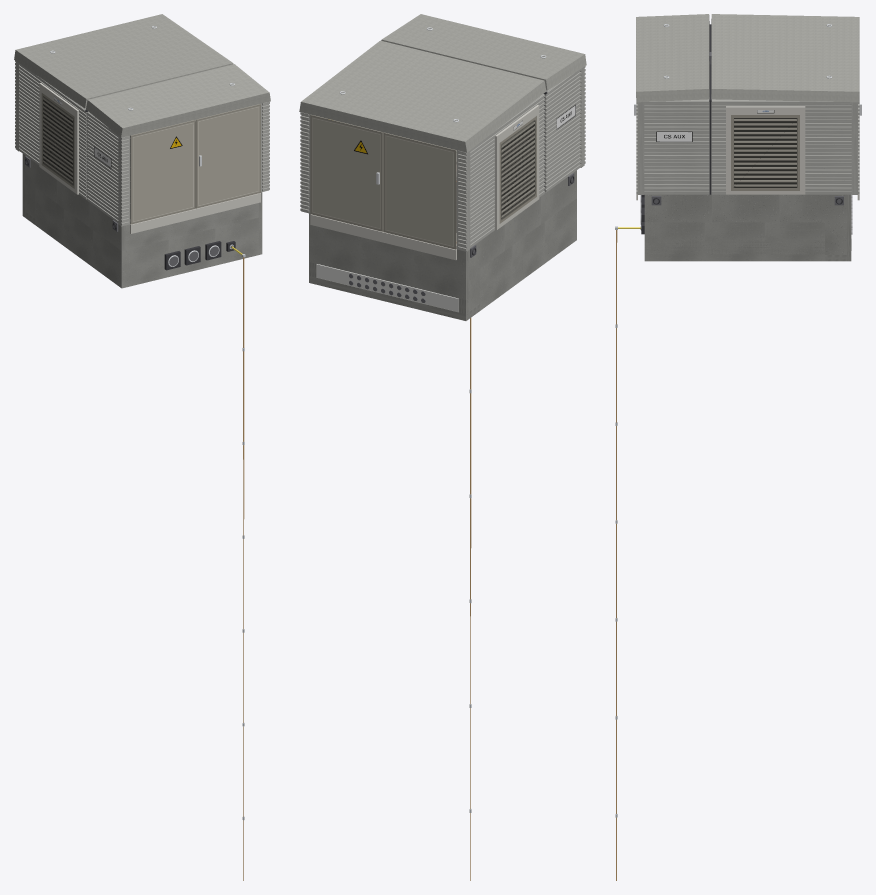
Rendered from cs_aux.glb.
The picture shows the model from 3 angles, left to right: view 1: azimuth 30°, elevation 25°; view 2: azimuth 150°, elevation 25°; view 3: azimuth 270°, elevation 25°; orthographic projection. The views are drawn at different scales.
Parts seen in each view (by area): view 1: object 254, object 2, object 255, deur_y_2000_0, deur_y_-2000_0, object 3, object 247, object 5, object 242, object 246, object 47, object 20 (+2 smaller); view 2: object 254, deur_y_2000_0, deur_y_-2000_0, object 255, object 8, object 2, object 3, object 247, object 1526, object 184, object 246, object 20 (+4 smaller); view 3: object 254, object 4, object 2, object 255, object 251, object 75, object 102, object 250, object 215, object 157, object 1518.
Part boxes in pixels (left/top/right/bottom): object 254: left=14, top=14, right=233, bottom=108; object 2: left=35, top=188, right=262, bottom=288; object 255: left=86, top=64, right=270, bottom=137; deur_y_2000_0: left=195, top=104, right=260, bottom=208; deur_y_-2000_0: left=130, top=120, right=195, bottom=224; object 3: left=25, top=155, right=125, bottom=281; object 247: left=41, top=93, right=74, bottom=188; object 5: left=125, top=203, right=258, bottom=249; object 242: left=130, top=193, right=260, bottom=233; object 246: left=39, top=83, right=79, bottom=194; object 47: left=87, top=111, right=126, bottom=226; object 20: left=19, top=65, right=87, bottom=199; object 254: left=299, top=40, right=546, bottom=152; deur_y_2000_0: left=383, top=132, right=456, bottom=249; deur_y_-2000_0: left=310, top=114, right=383, bottom=231; object 255: left=381, top=14, right=586, bottom=90; object 8: left=309, top=213, right=468, bottom=299; object 2: left=480, top=198, right=576, bottom=310; object 3: left=468, top=170, right=576, bottom=312; object 247: left=499, top=116, right=536, bottom=223; object 1526: left=316, top=264, right=458, bottom=311; object 184: left=310, top=214, right=456, bottom=260; object 246: left=494, top=105, right=539, bottom=229; object 20: left=460, top=94, right=544, bottom=251; object 254: left=711, top=14, right=859, bottom=102; object 4: left=644, top=194, right=846, bottom=254; object 2: left=644, top=222, right=824, bottom=261; object 255: left=636, top=14, right=709, bottom=102; object 251: left=731, top=115, right=799, bottom=190; object 75: left=711, top=99, right=851, bottom=194; object 102: left=644, top=99, right=709, bottom=194; object 250: left=726, top=106, right=805, bottom=194; object 215: left=637, top=102, right=644, bottom=194; object 157: left=851, top=102, right=857, bottom=194; object 1518: left=616, top=230, right=617, bottom=880.
Bounding box in the file's own units: 25.37 × 124 × 34.28.
Materials: 304 (61 with a texture image).
